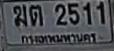1: (96, 1, 104, 23), (82, 2, 90, 24)
2: (54, 4, 66, 24)
5: (67, 2, 79, 24)
A06: (12, 4, 26, 26)
A21: (28, 4, 43, 26)
BKK: (20, 31, 98, 44)
